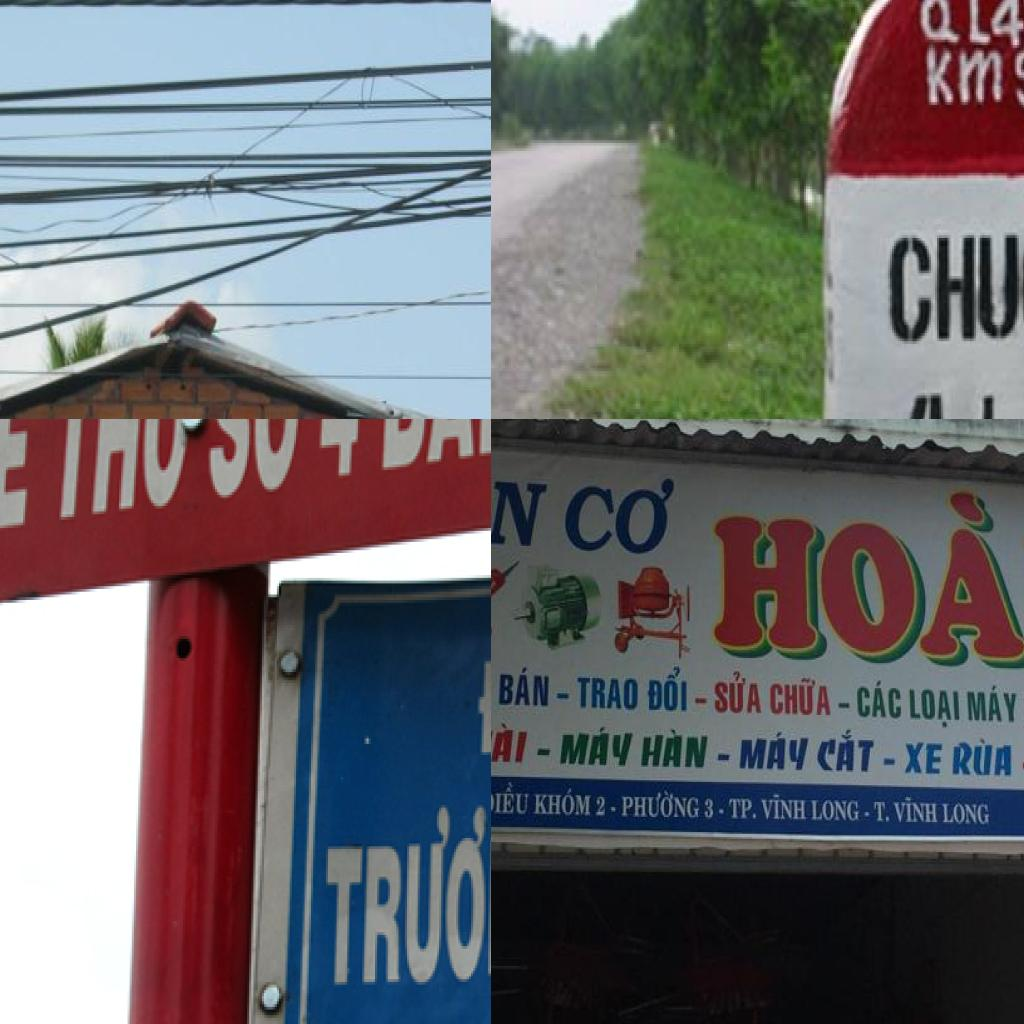text: (699, 477, 1024, 683), (323, 805, 491, 996), (883, 197, 1024, 343), (46, 419, 195, 530), (556, 470, 685, 562), (204, 419, 313, 506), (491, 452, 552, 569), (918, 48, 1008, 110), (918, 0, 1024, 45), (0, 419, 40, 536), (554, 723, 638, 777), (734, 728, 814, 778), (638, 725, 714, 775), (620, 785, 700, 829), (766, 672, 834, 722), (816, 727, 880, 780), (317, 419, 364, 486), (950, 737, 1015, 785), (497, 661, 555, 710), (574, 672, 642, 712), (709, 670, 764, 716), (964, 684, 1021, 728), (847, 680, 904, 722), (908, 684, 962, 728), (535, 785, 592, 824), (491, 720, 531, 773), (646, 665, 690, 713), (891, 792, 941, 834), (901, 737, 946, 780), (889, 390, 955, 419), (491, 780, 532, 822), (942, 800, 992, 834), (760, 787, 808, 822), (810, 794, 864, 824), (728, 796, 761, 830), (1012, 48, 1024, 113), (871, 797, 894, 830), (702, 795, 716, 827), (595, 794, 607, 822)
